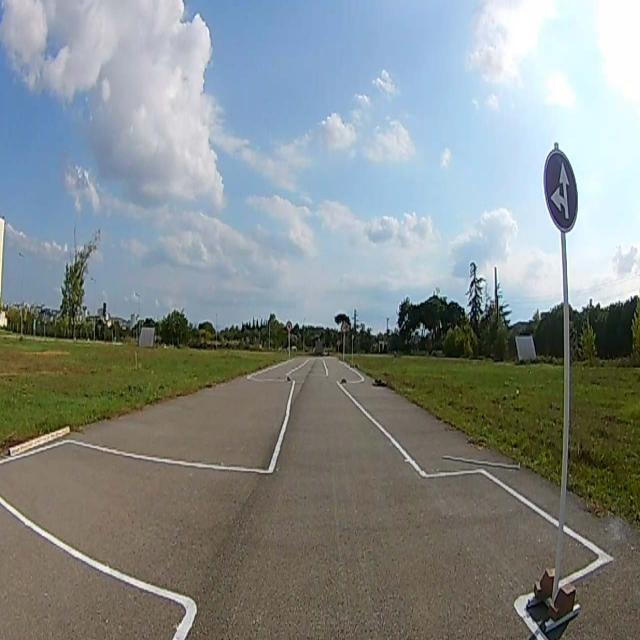ilerisol: (545, 150, 577, 230)
